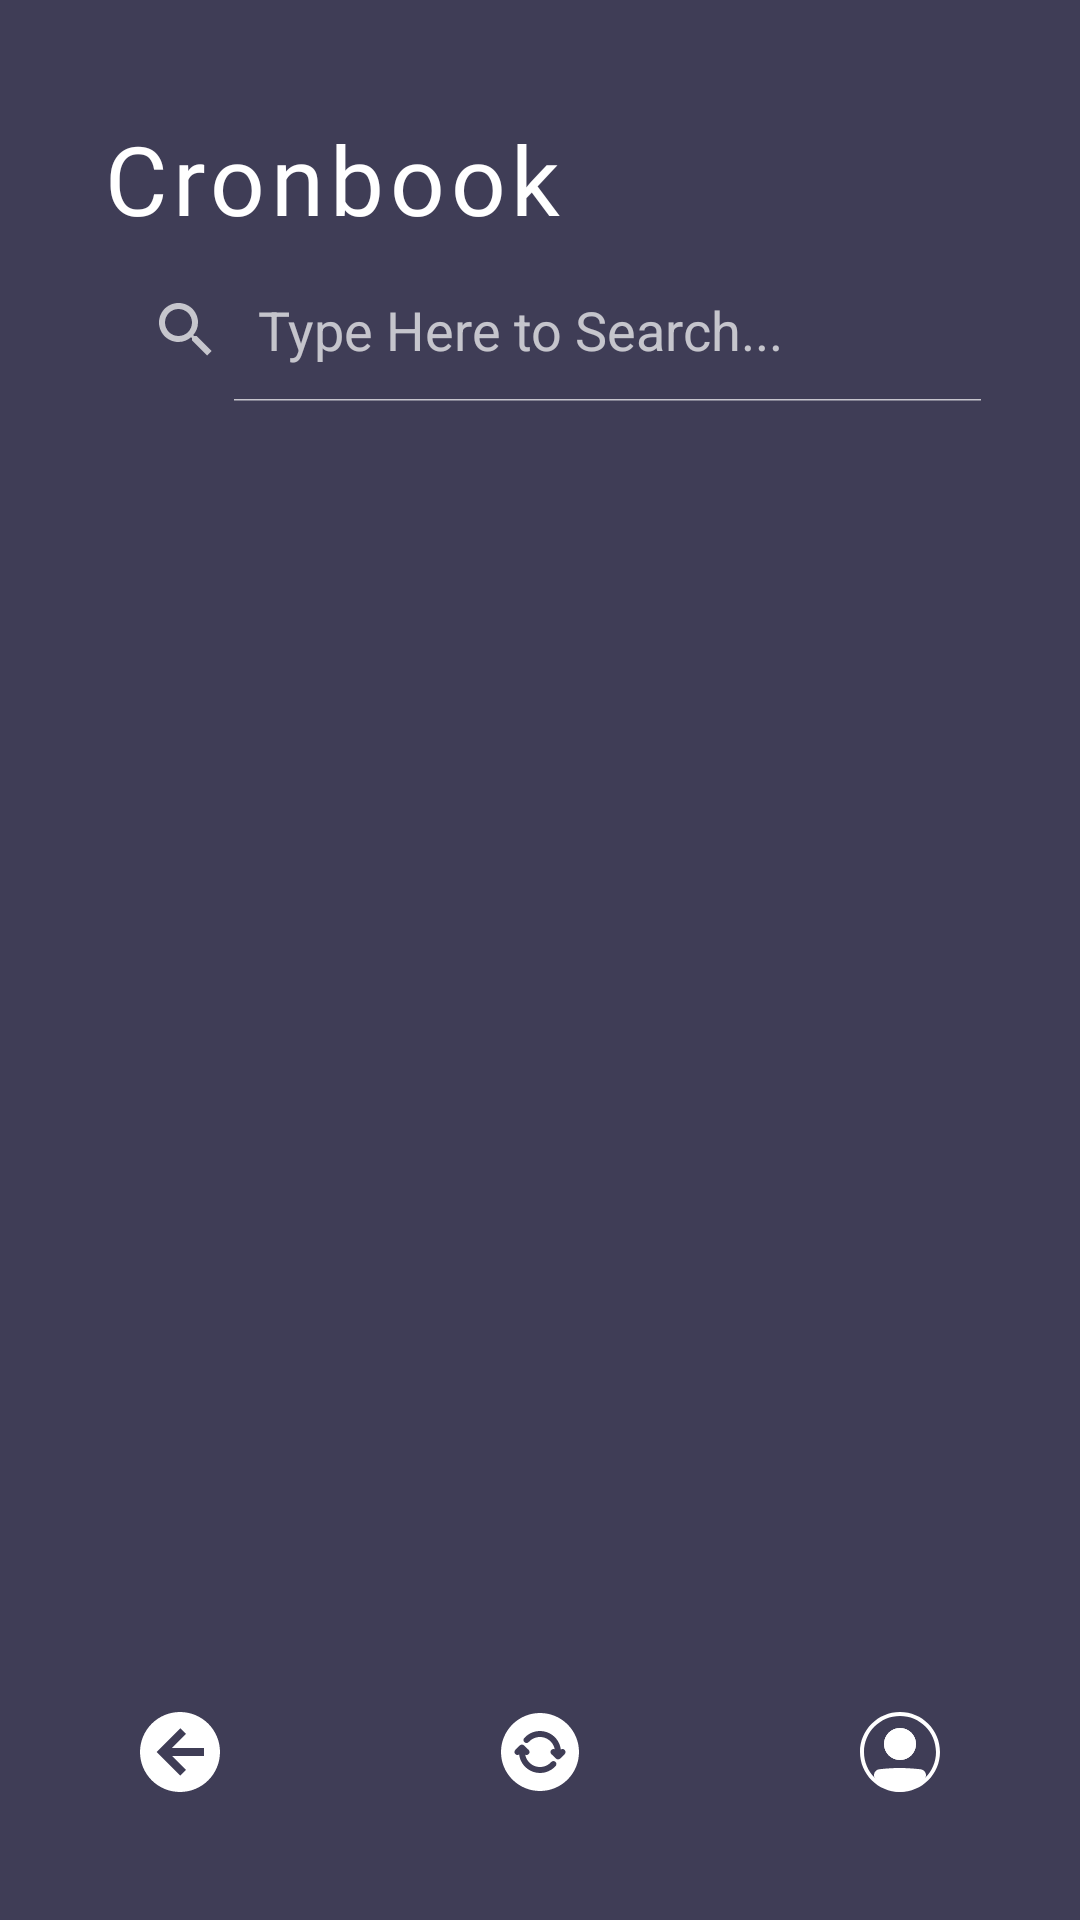

Icons on this 1080x1920 Android screen, each with the point to tap as (x=x, y=y):
back arrow: (x=180, y=1752)
sync cronbook: (x=540, y=1752)
user profile: (x=900, y=1752)
